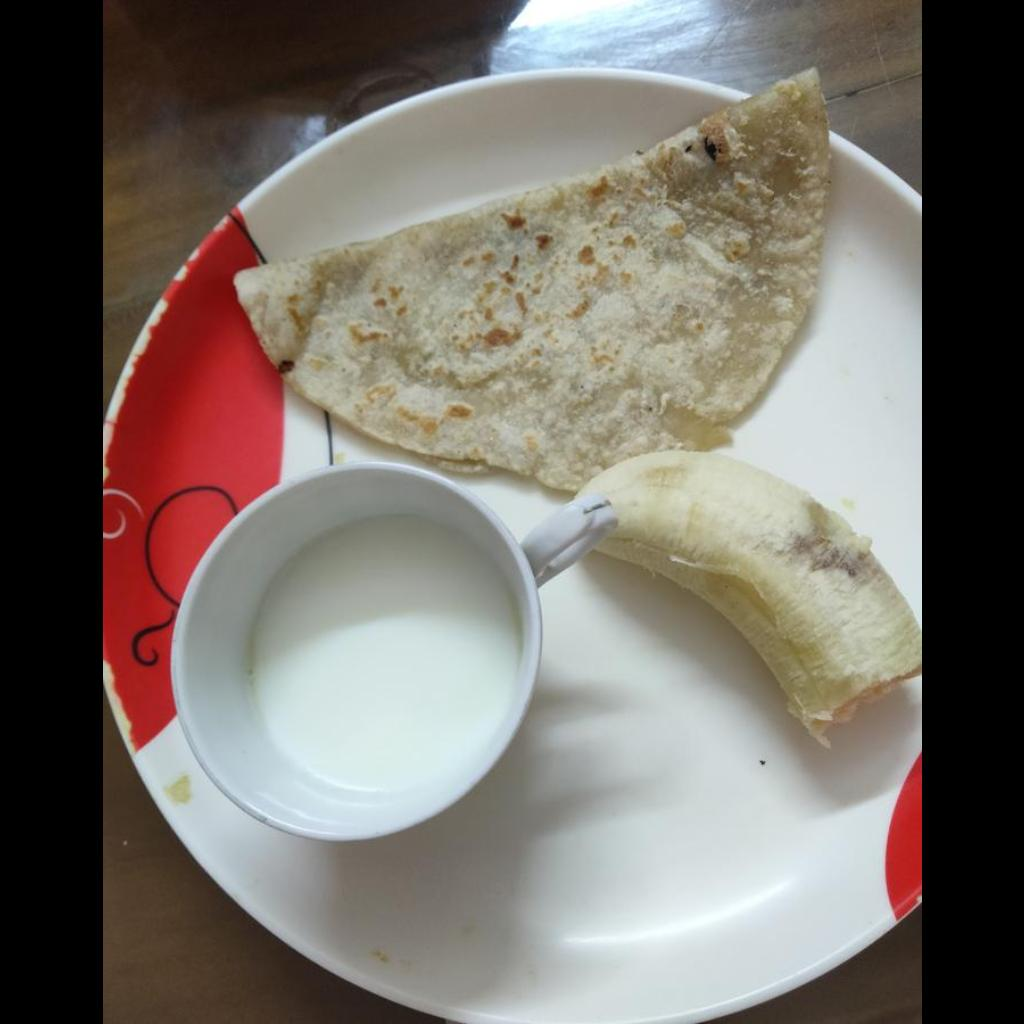banana: (580, 456, 920, 748)
milk: (243, 516, 515, 791)
ruti: (228, 71, 832, 491)
